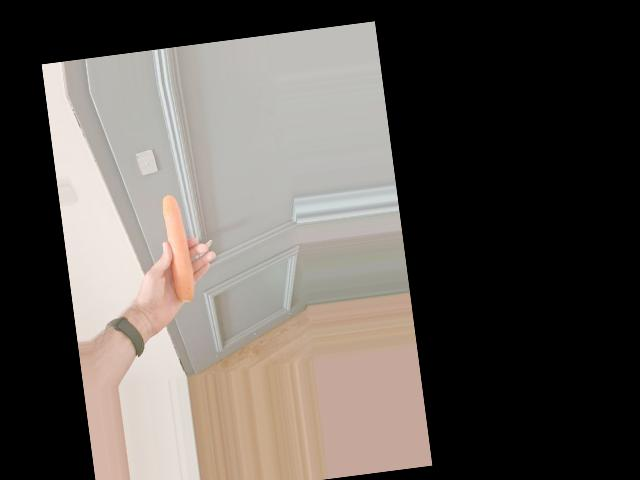carrot: (157, 195, 196, 303)
